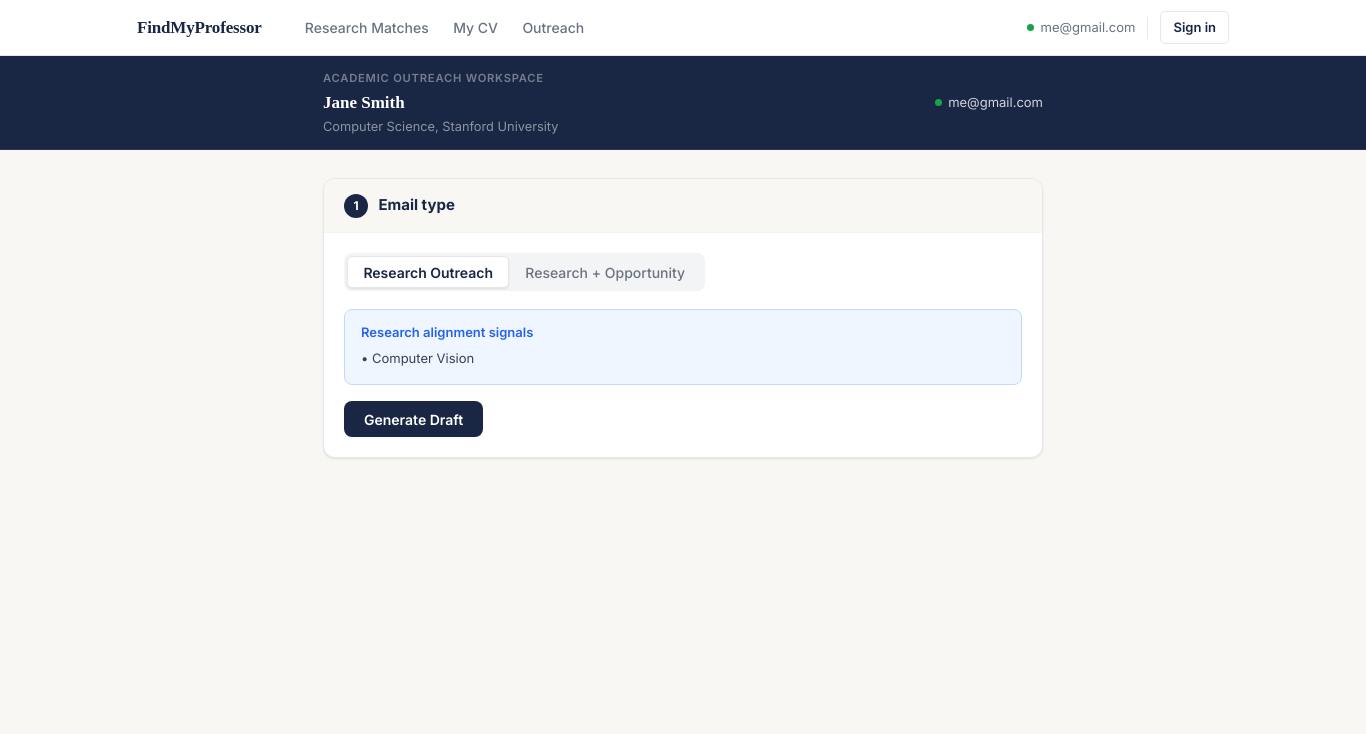
Test case: Email compose page › shows a clear error instead of silently failing when CV attachment fails
Expected: the text "Jane Smith" is shown, [323,93,405,112]
Click the button "Generate Draft": (414, 419) [344,401,483,437]
(page scrolled)
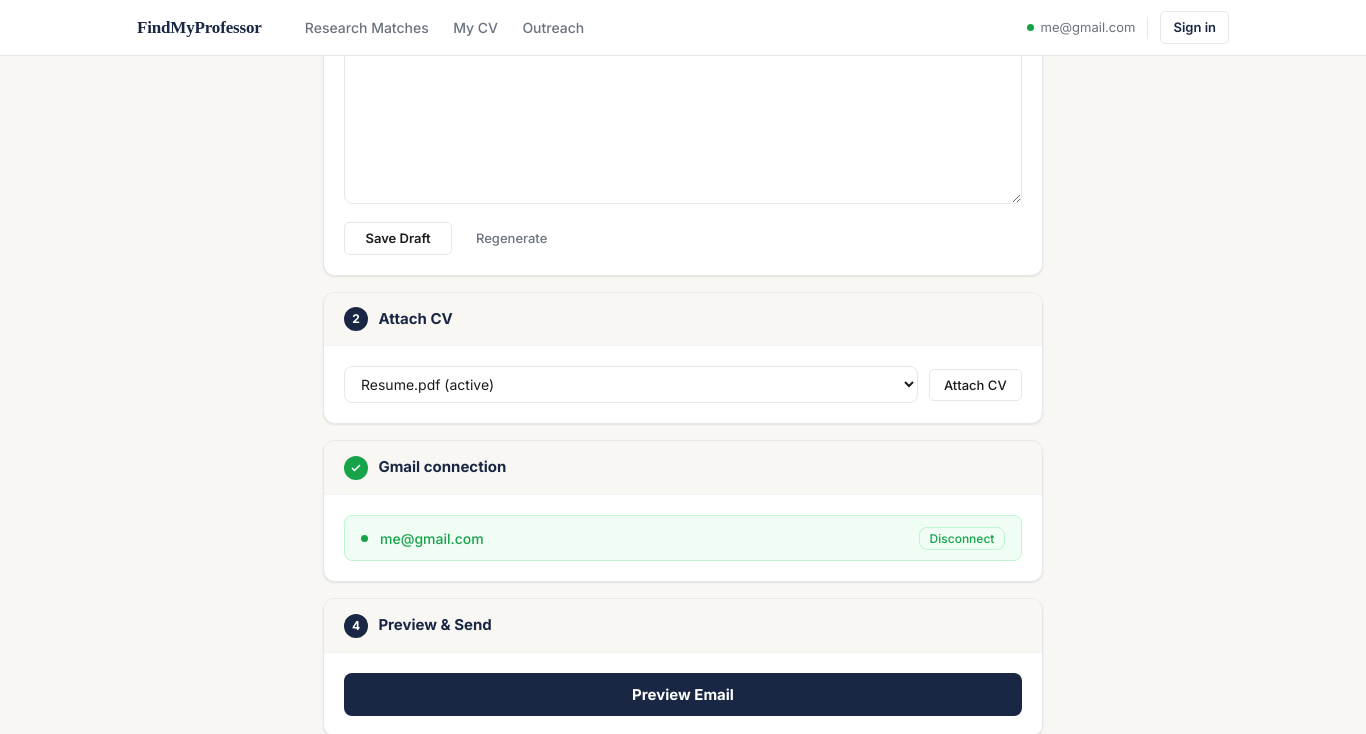
Select "Resume.pdf (active)" in the dropdown: (631, 385) [344,366,918,403]
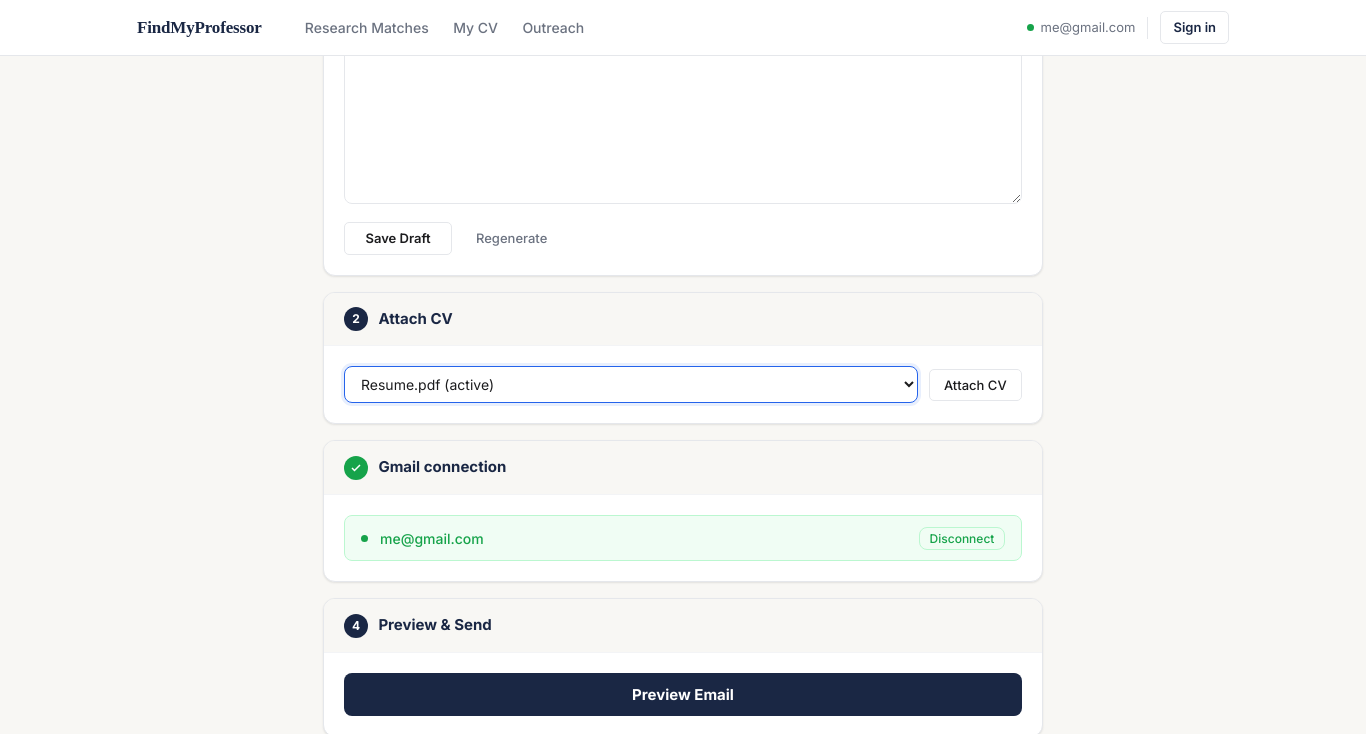
Click the button "Attach CV": (975, 385) [928,369,1022,401]
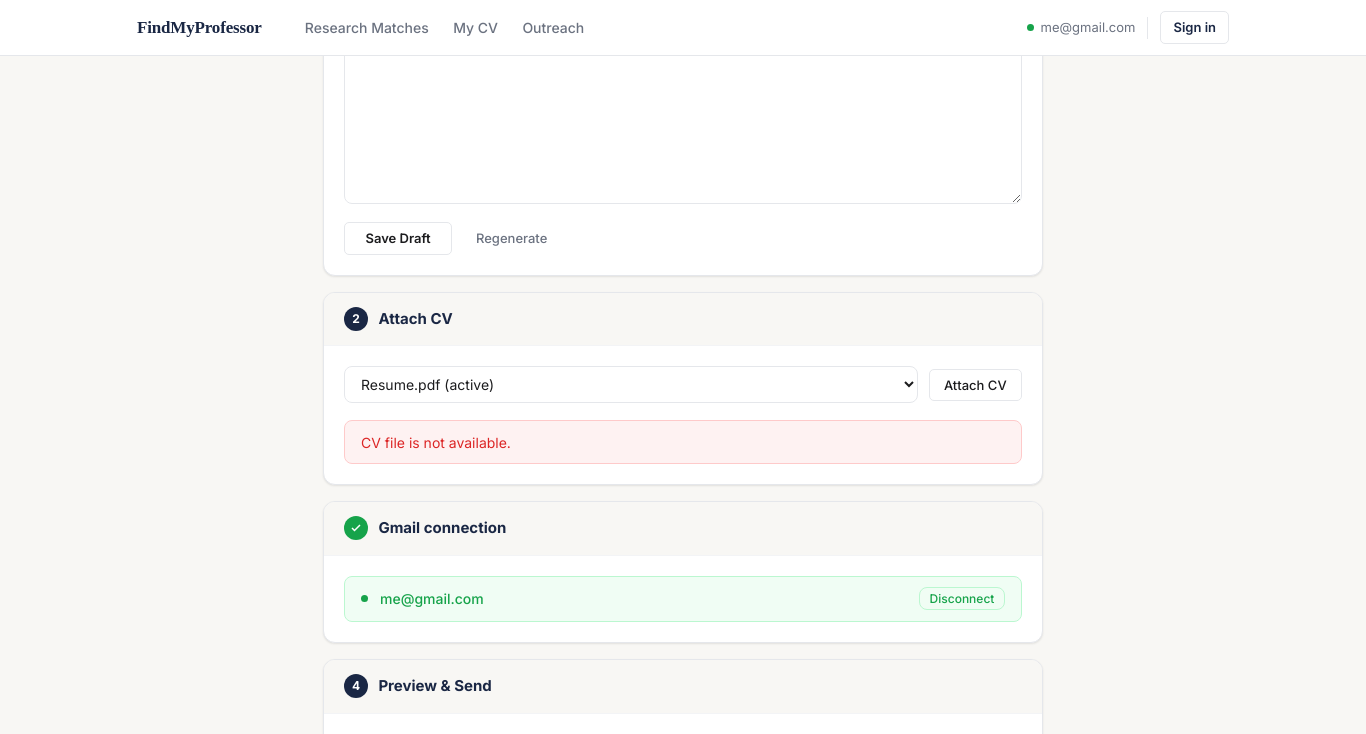
Result: the text "CV file is not available." is shown at [344,420,1022,464]
